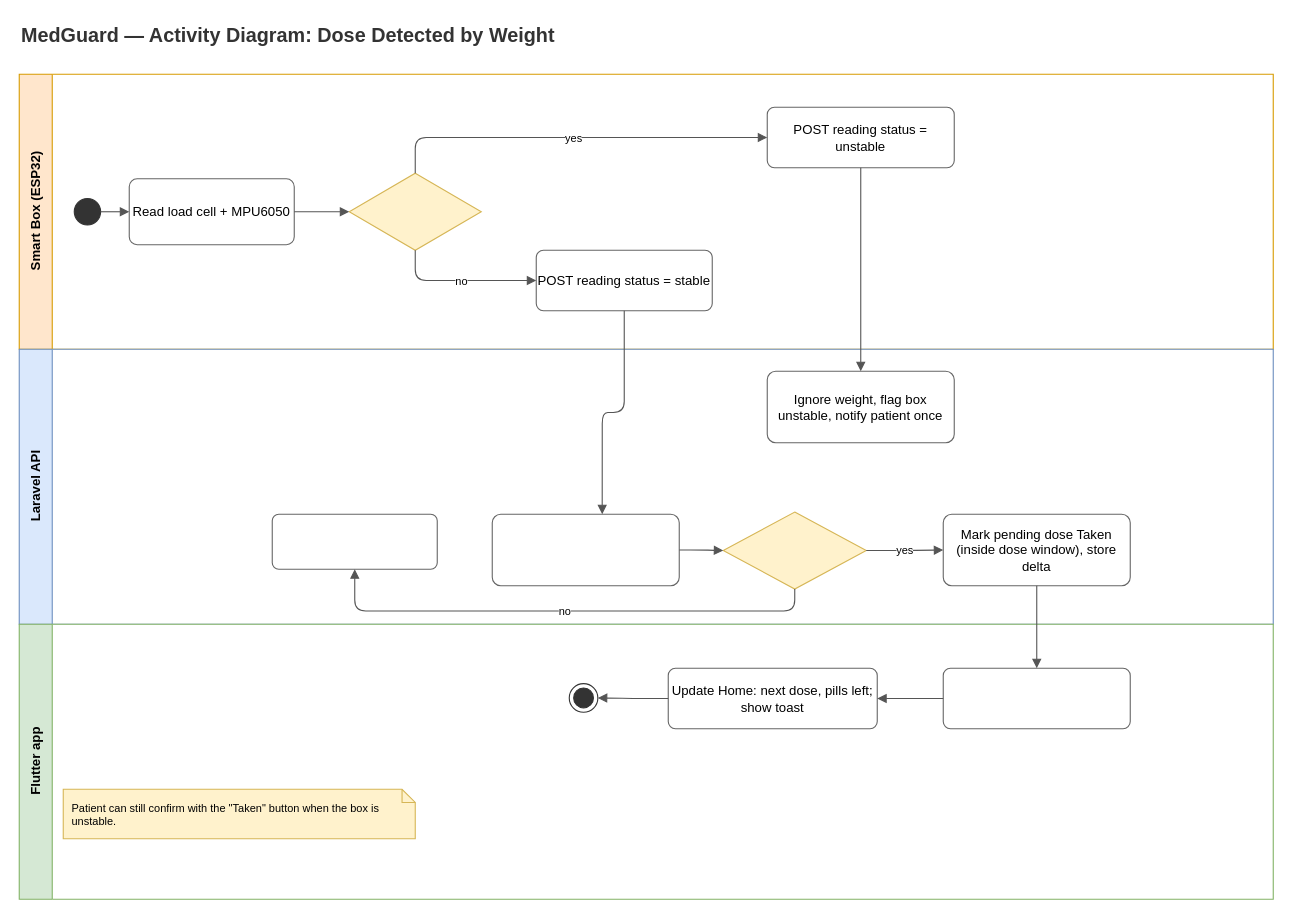
Image size: 1293x919. Some labels were removed from this diagram. The centre of each missing label's shape, as x and y in pixels:
"Broadcast via Reverb to patient + caregivers" belongs at (x=1036, y=698).
"Compare with last trusted (stable) weight" belongs at (x=585, y=549).
"Drop ≥ dose threshold?" belongs at (x=794, y=550).
"Moving > 5 s?" belongs at (x=414, y=211).
"Store reading only" belongs at (x=354, y=541).
